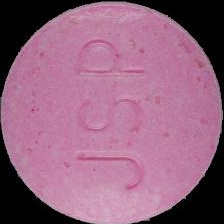50436-5501: (0, 0, 224, 224)
